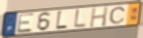6: (36, 11, 52, 32)
C: (109, 6, 127, 25)
E: (16, 12, 36, 34)
H: (89, 6, 110, 28)
L: (55, 10, 69, 31), (73, 8, 87, 28)
